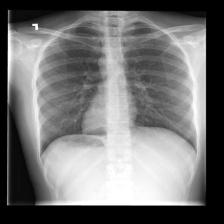normal: (34, 15, 199, 154)
